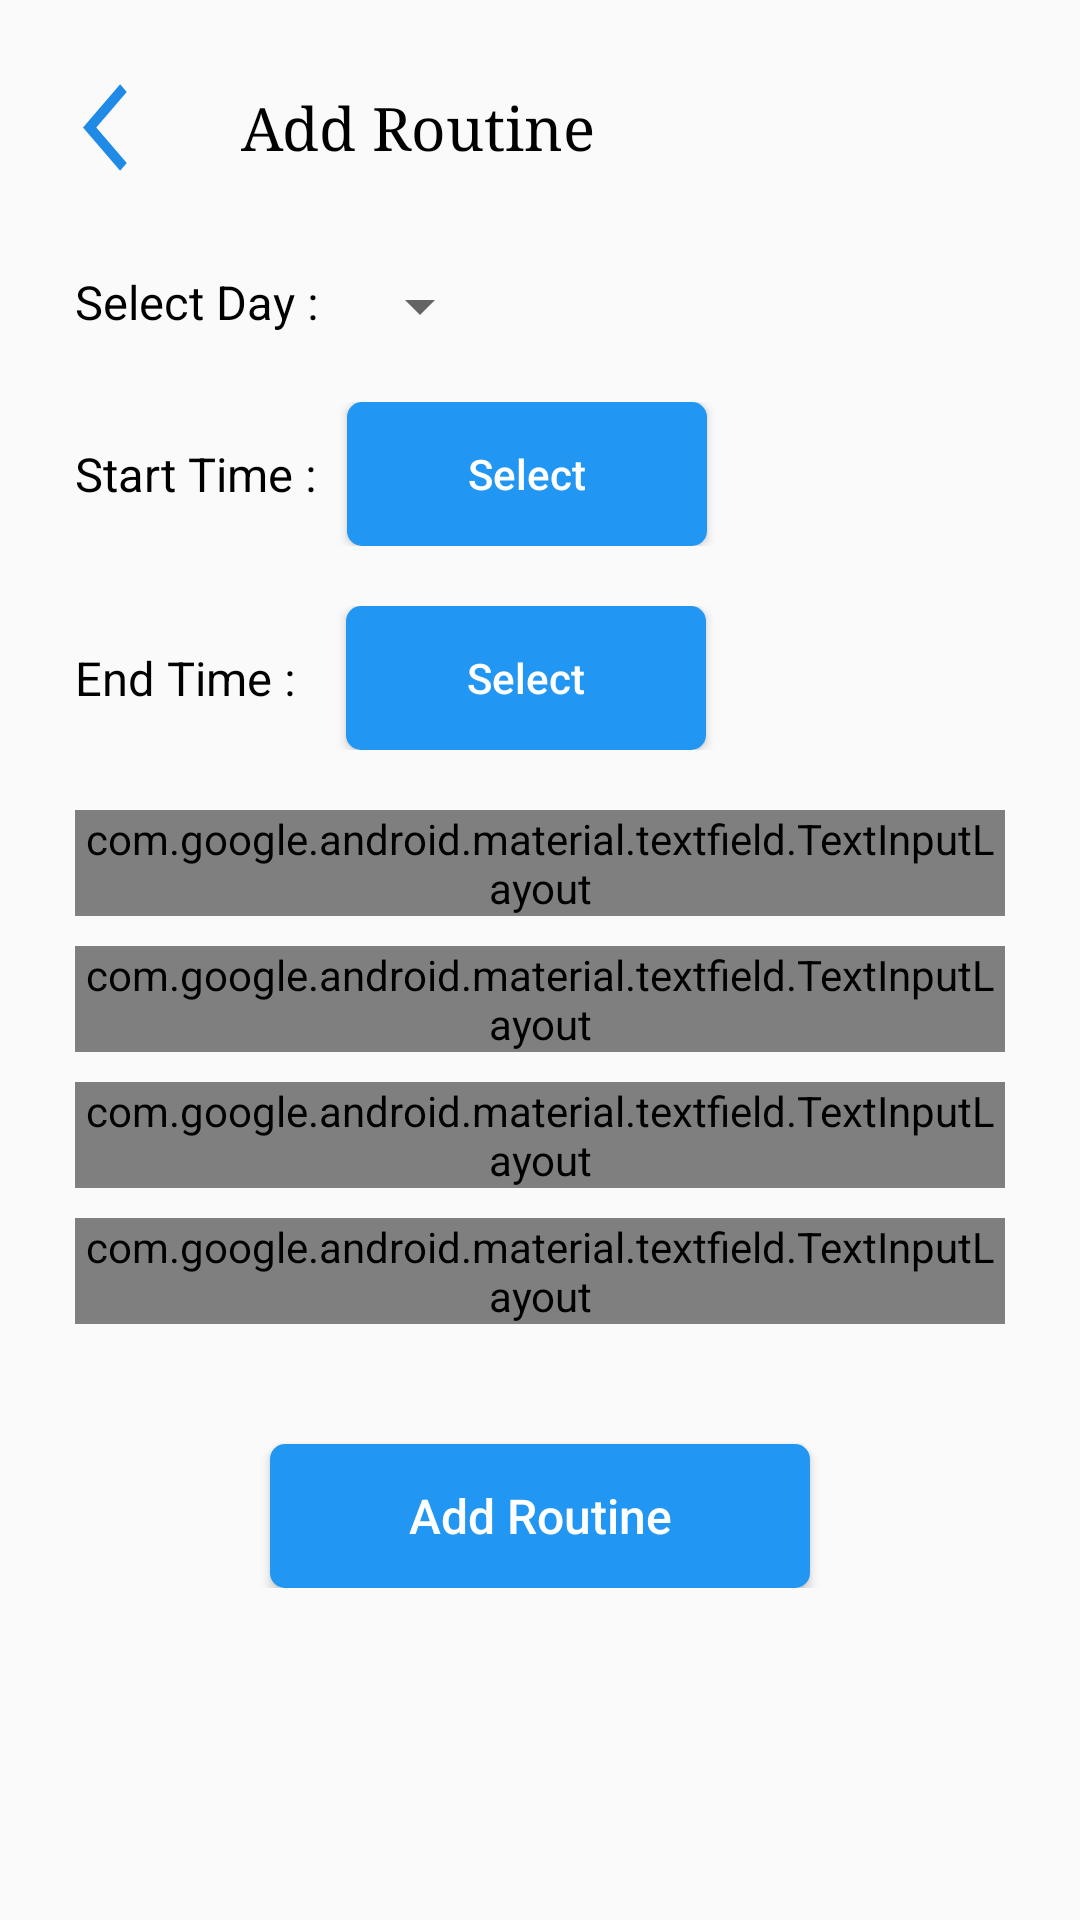

Screen size 1080 × 1920. Icon name, then its box in pixels as (x1=x1, y1=y1, x2=x2, y2=y2):
back: (x1=83, y1=84, x2=127, y2=171)
